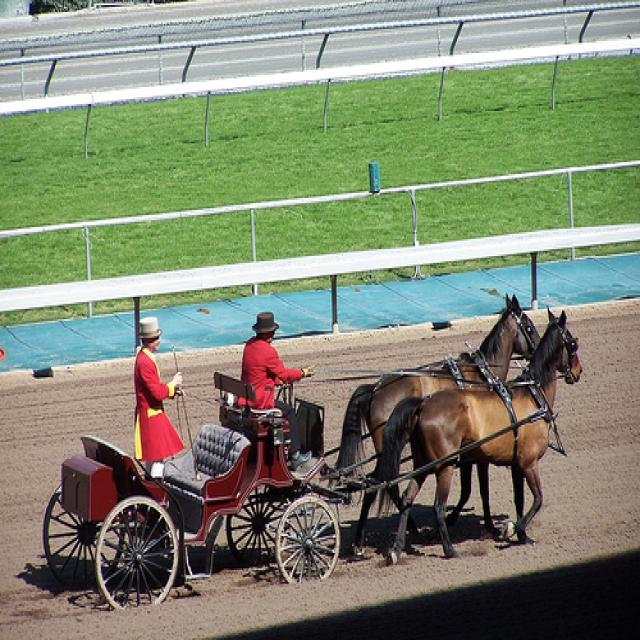horse: (381, 308, 586, 568), (340, 296, 540, 547)
person: (236, 312, 319, 467), (133, 315, 181, 475)
